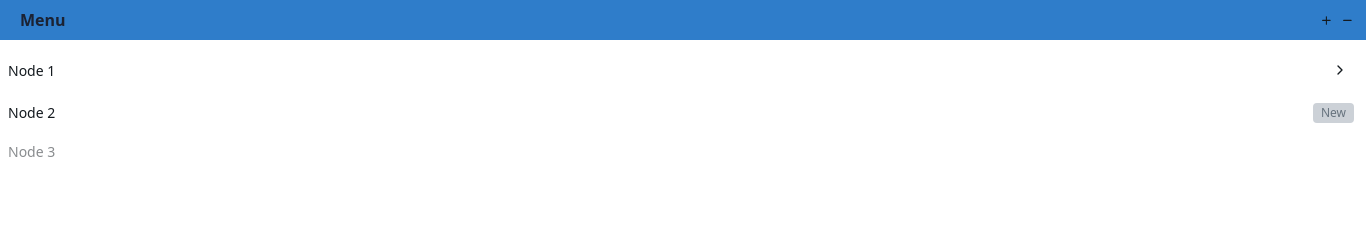
Test case: TreeMenu › expands node on click
Note: Click expand button for Node 1
What coordinates should you click on to do the following:
click the button named "Expand"
I would click on:
 (1340, 70)
Its box is [1326,56,1354,84].
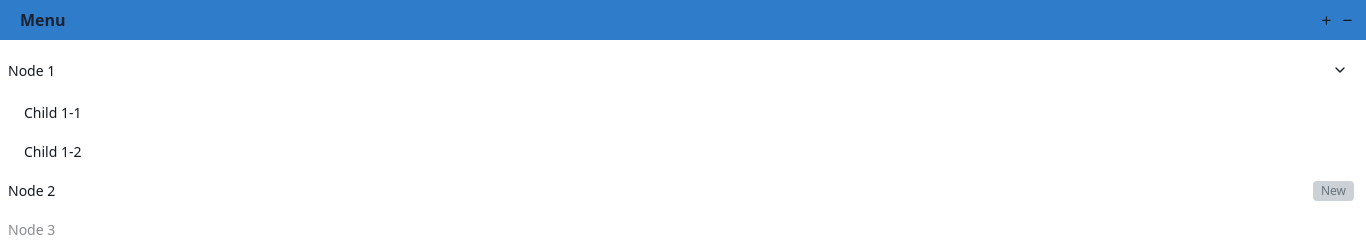
Now the text "Child 1-1" is shown, box [24,103,82,122]
